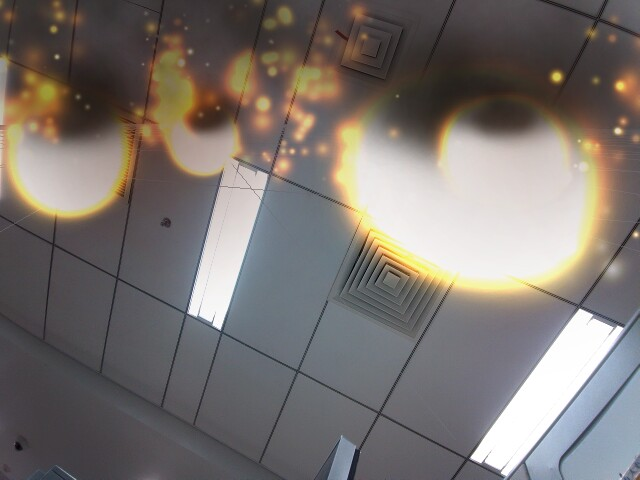fire: (339, 49, 610, 295), (5, 90, 140, 226), (436, 89, 581, 206), (166, 99, 242, 179)
